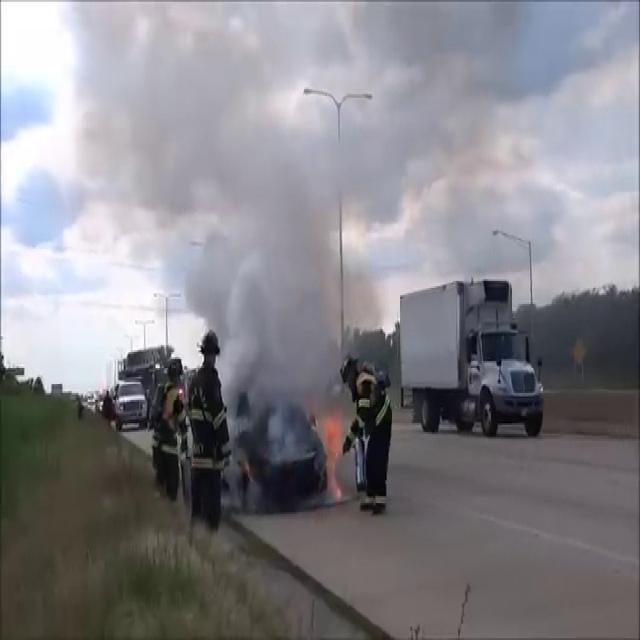Fire: (316, 400, 348, 492)
Smoke: (53, 1, 360, 388)
